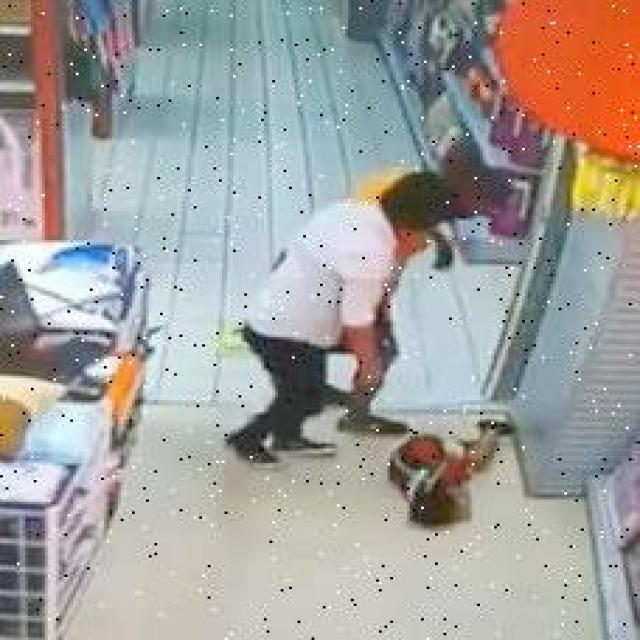fall: (379, 416, 522, 528)
